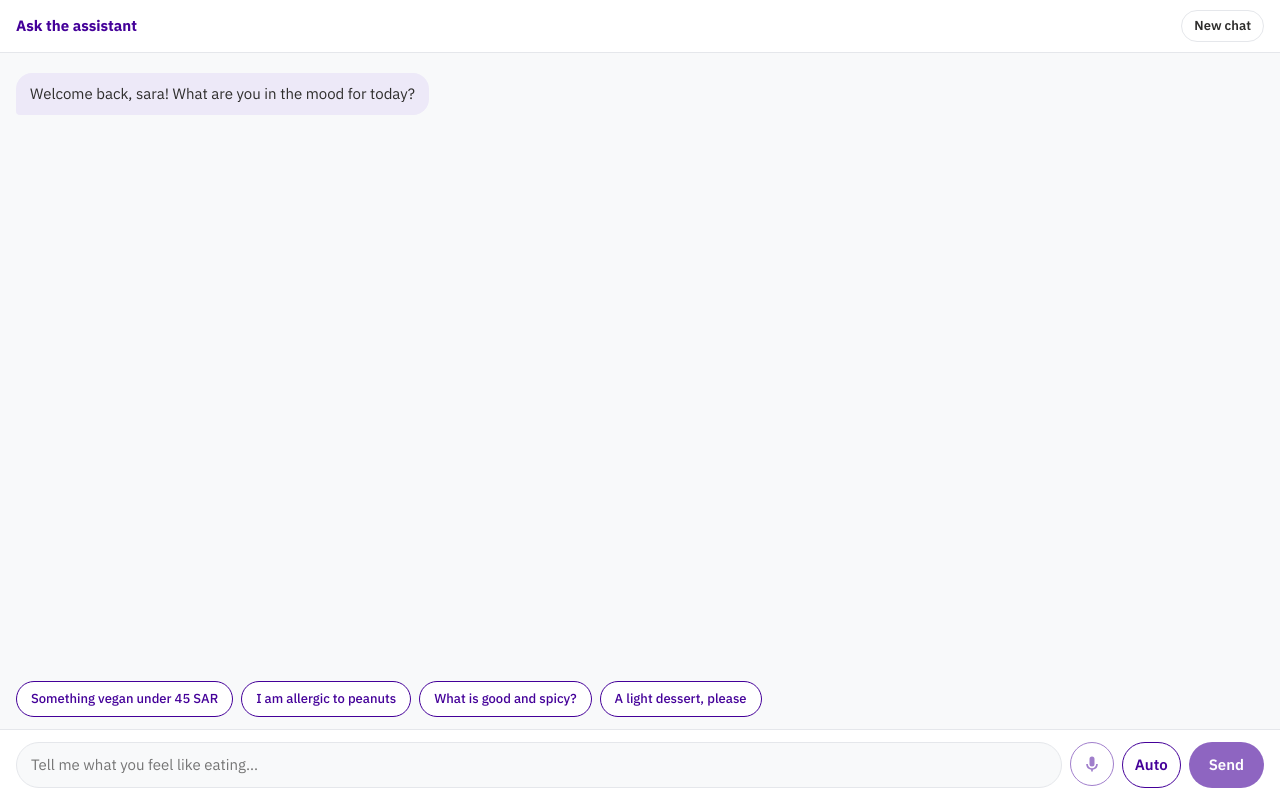
ChatPanel › New chat is disabled while a reply is pending
Type "hi" into the field named "Message".
click(539, 765); type("hi")  # box [16,742,1062,788]
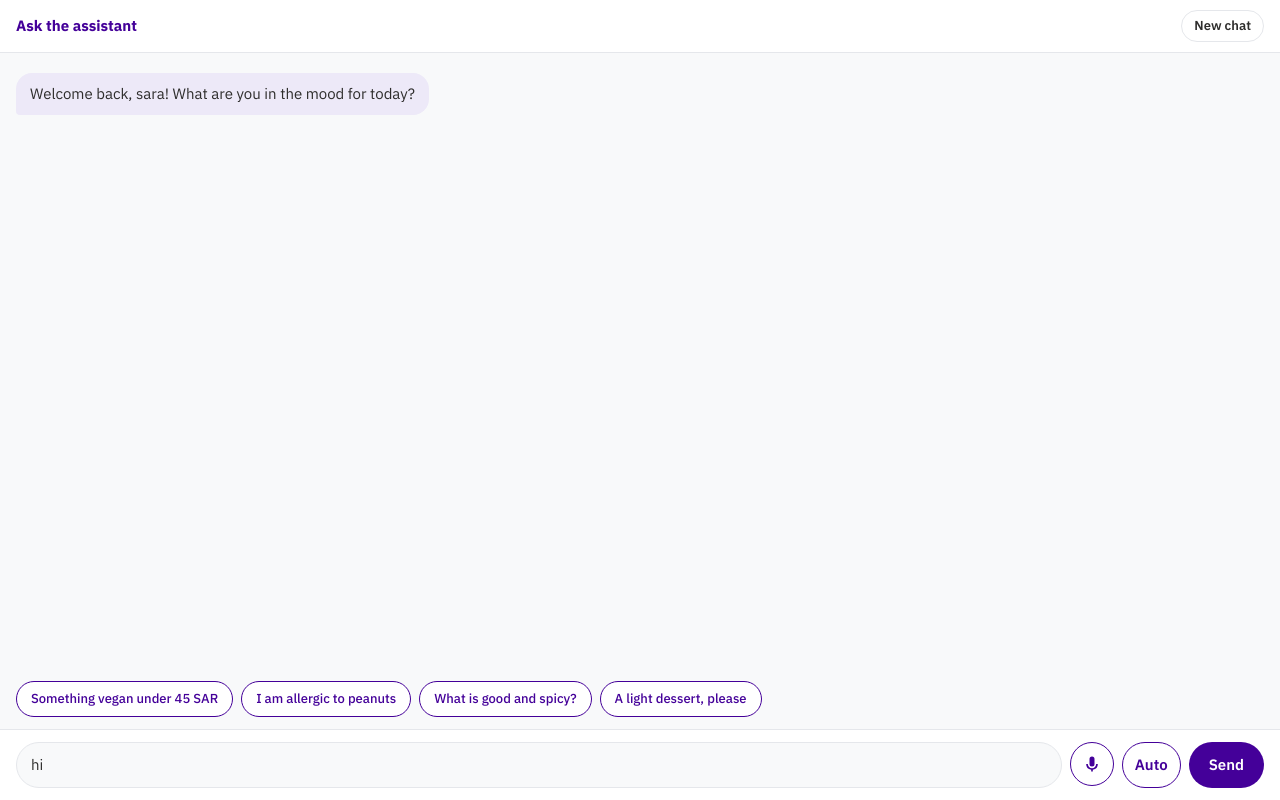
Expected: the button "Send" is enabled
Click the button "Send".
click(1226, 765)  # box [1189,742,1264,788]
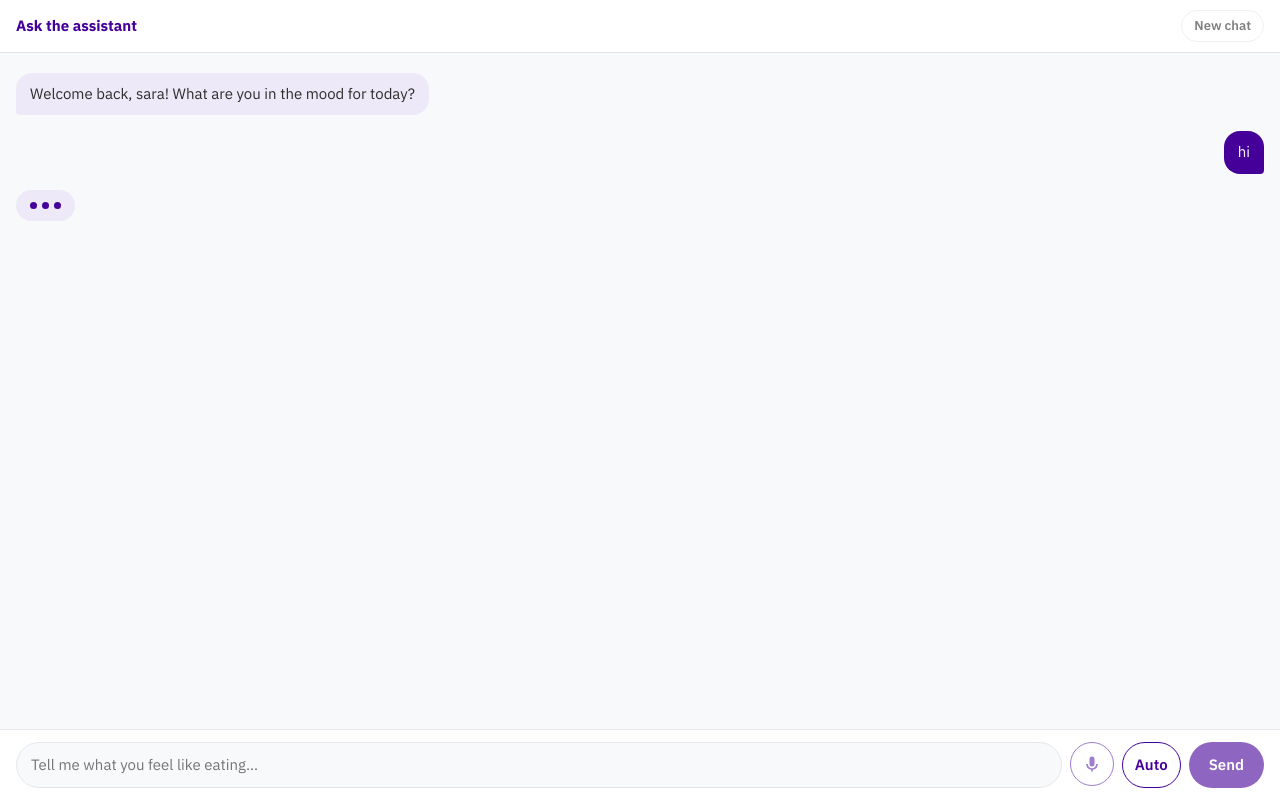
Expected: the message is shown, [16,190,75,220]
Expected: the button "New chat" is disabled, [1181,10,1264,42]
